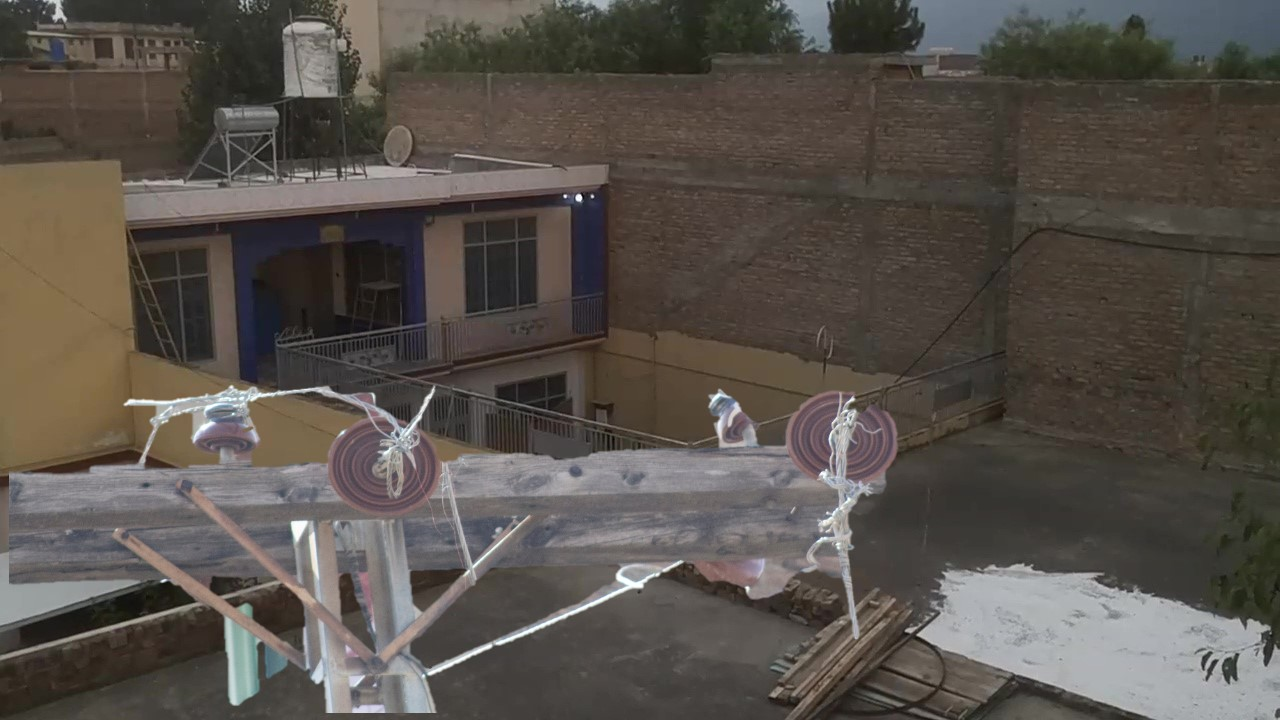defect_pin: (704, 381, 765, 450)
insulator_disc: (784, 383, 904, 485), (325, 414, 448, 513)
insulator_pin: (184, 390, 265, 458)
